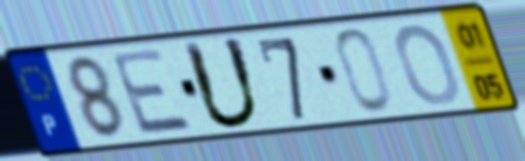0: (330, 24, 400, 118)
7: (253, 35, 309, 123)
8: (63, 52, 128, 142)
E: (106, 46, 198, 138)
O: (392, 21, 463, 108)
U: (178, 35, 266, 133)
